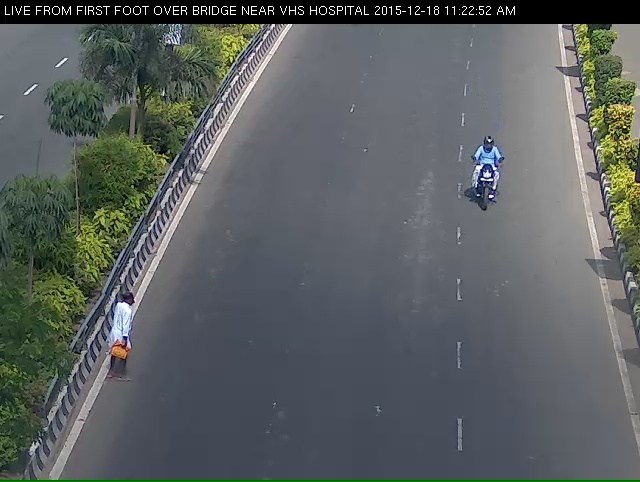Person: (463, 142, 511, 225)
